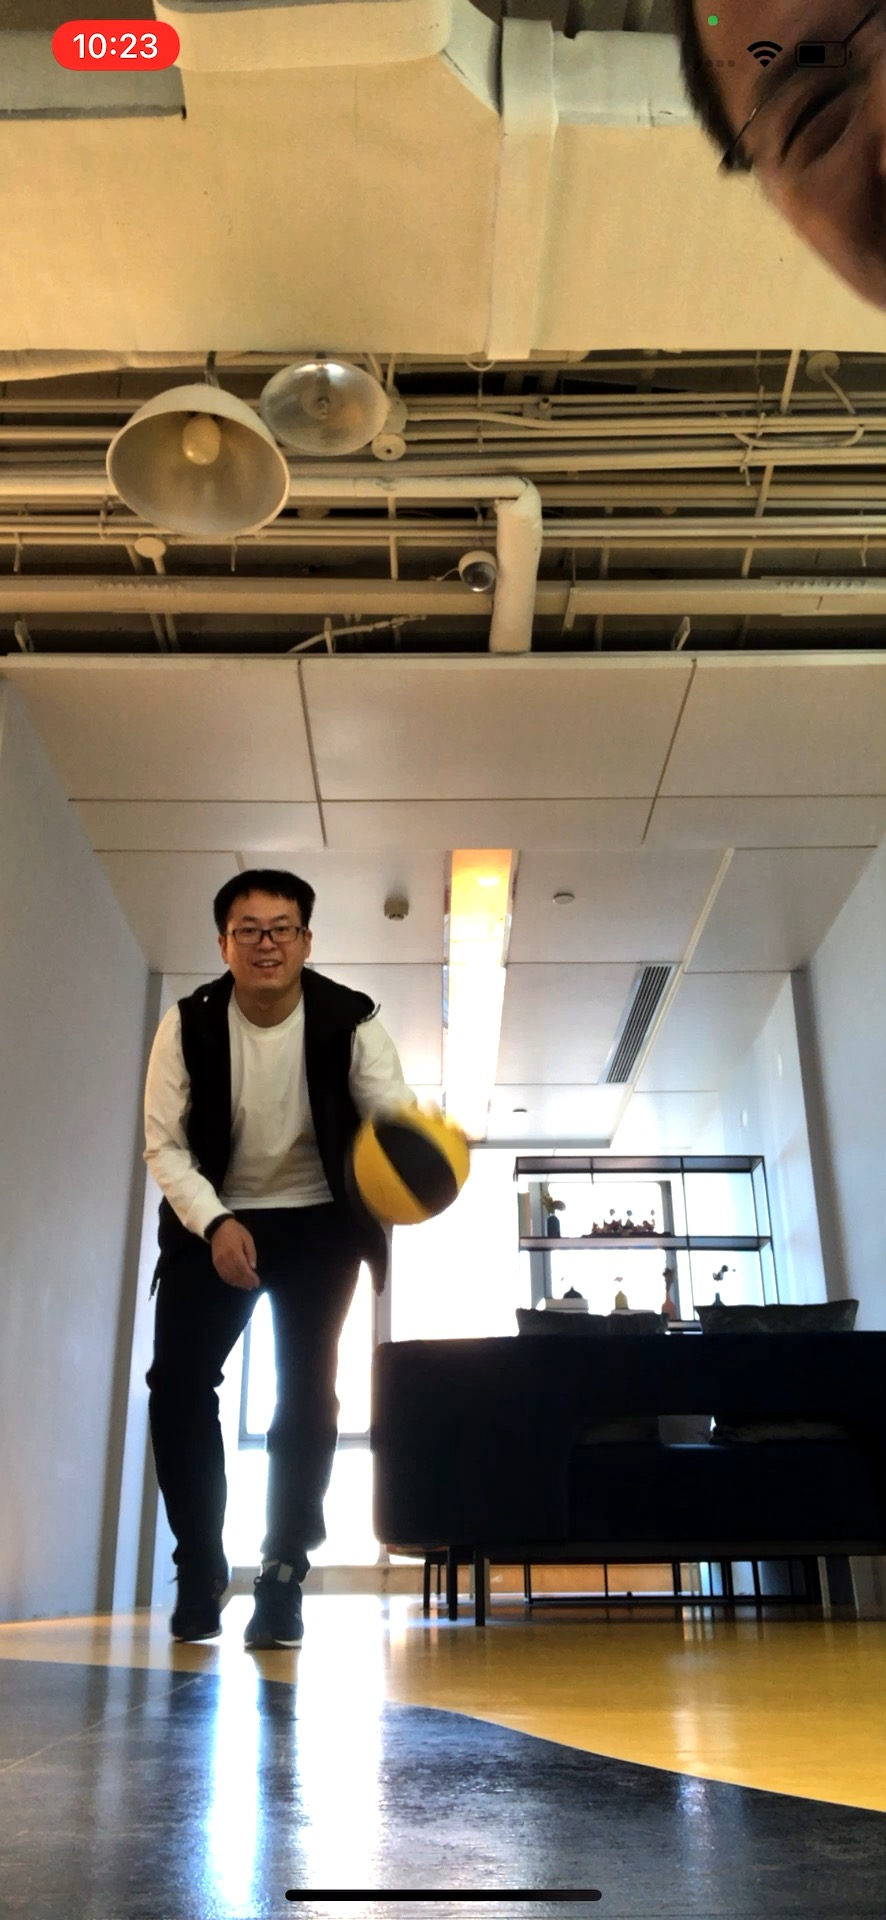ball: (352, 1100, 474, 1227)
